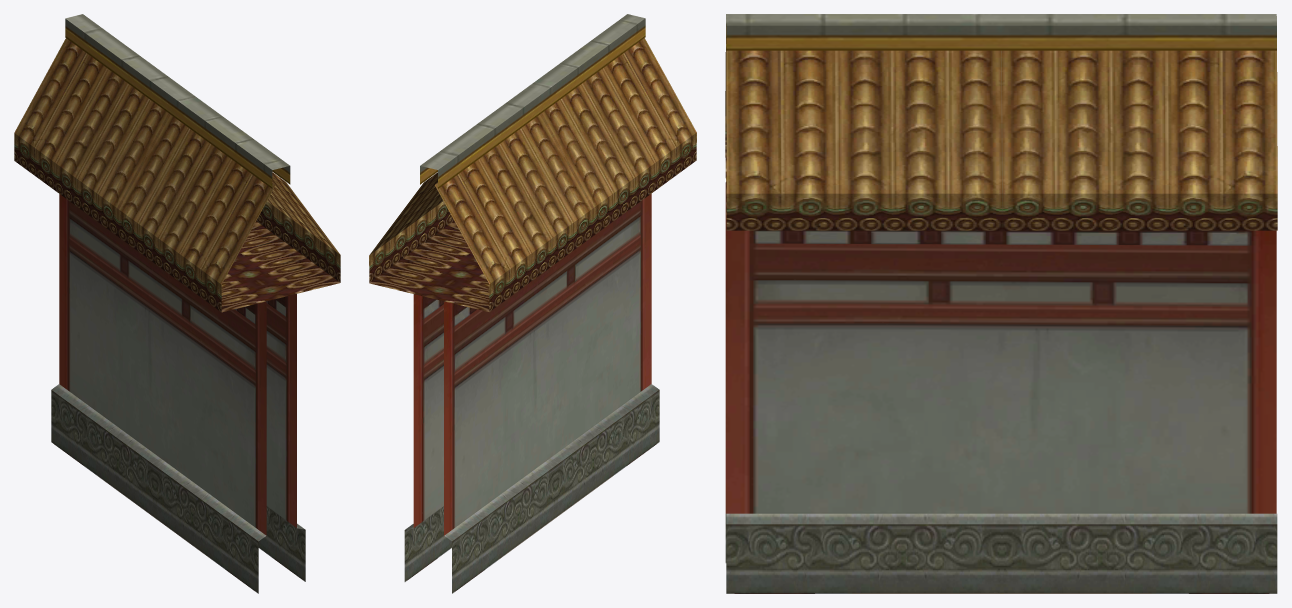
File: Yland1_q_02 Yland1.FBX
3 views of the same model, side by side, from view 1: azimuth 30°, elevation 25°; view 2: azimuth 150°, elevation 25°; view 3: azimuth 270°, elevation 25° (orthographic). The views are drawn at different scales.
Visible parts, largest first — view 1: Yland1_q_02 Yland1; view 2: Yland1_q_02 Yland1; view 3: Yland1_q_02 Yland1.
Part boxes in pixels (x1=…): Yland1_q_02 Yland1: x1=14, y1=14, x2=340, y2=593; Yland1_q_02 Yland1: x1=369, y1=14, x2=696, y2=593; Yland1_q_02 Yland1: x1=725, y1=14, x2=1277, y2=593.
Bounding box in the file's own units: 220 × 739 × 662.
